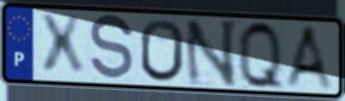A: (282, 23, 338, 94)
N: (182, 18, 240, 89)
O: (138, 17, 186, 84)
Q: (235, 18, 287, 94)
S: (88, 12, 136, 84)
X: (37, 13, 88, 78)
